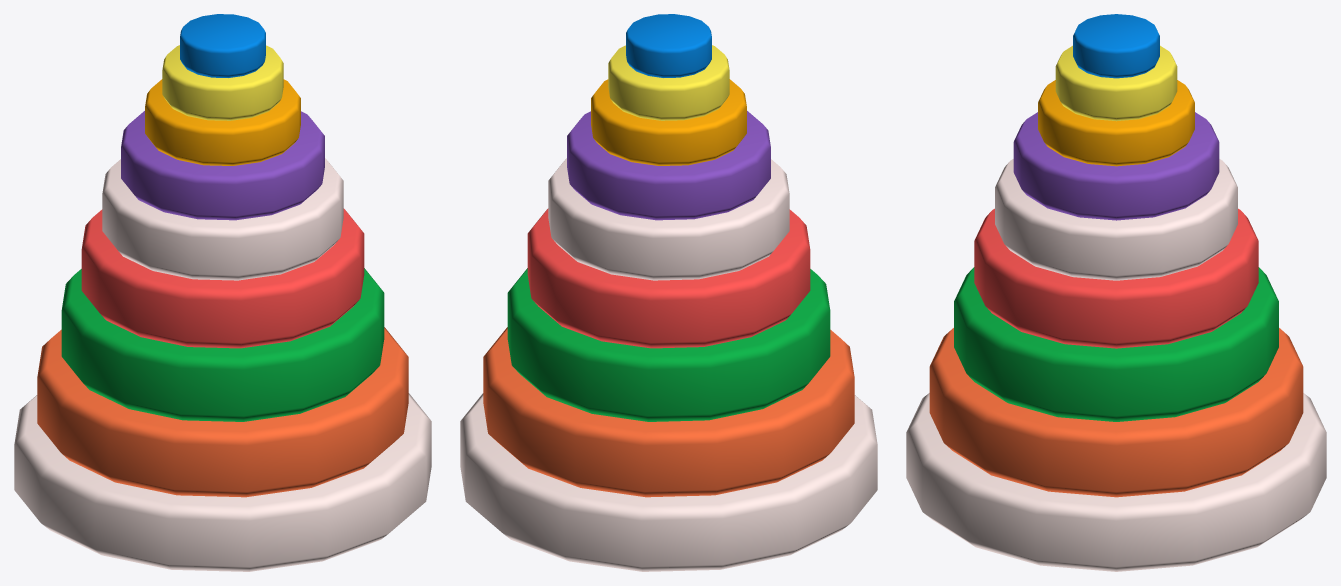
Rendered from Store_9_Toy_Pyramid_1.glb.
3 views of the same model, side by side, from view 1: azimuth 30°, elevation 25°; view 2: azimuth 150°, elevation 25°; view 3: azimuth 270°, elevation 25° (orthographic).
Parts seen in each view (by area): view 1: Store_9_Toy_Pyramid_1; view 2: Store_9_Toy_Pyramid_1; view 3: Store_9_Toy_Pyramid_1.
Boxes of the visible parts, x1,y1,x2,y2 form: Store_9_Toy_Pyramid_1: (14,14,431,571); Store_9_Toy_Pyramid_1: (460,14,877,571); Store_9_Toy_Pyramid_1: (906,14,1326,571).
Size of the model in its own units: 2.62 by 3.14 by 2.62.
1 material, 1 textured.
